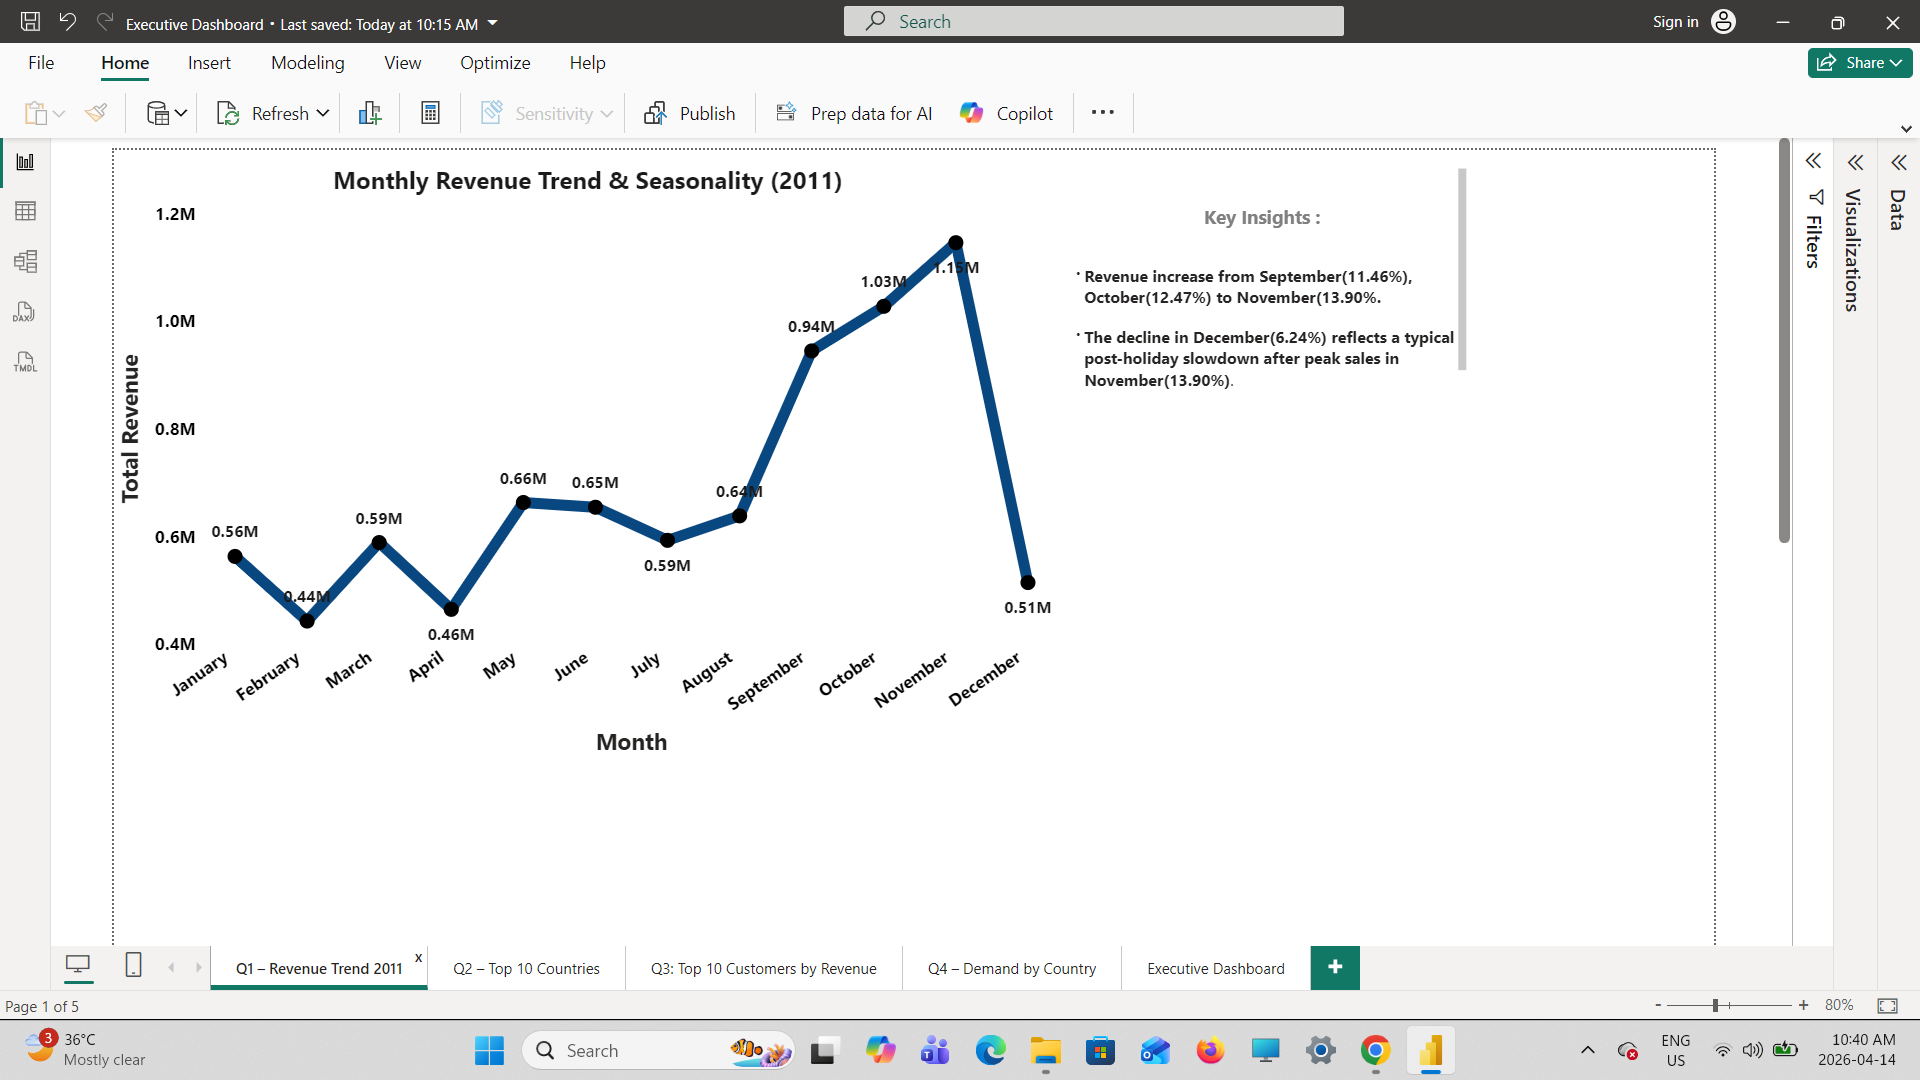

The dashboard page shown, as its layout file describes it:
{"tool":"powerbi","page":{"name":"Q1 – Revenue Trend 2011","canvas":[1600,1600],"ordinal":0},"visuals":[{"type":"lineChart","title":"Monthly Revenue Trend & Seasonality (2011)","fields":{"Category":["Online Retail.InvoiceDate.Variation.Date Hierarchy.Year","Online Retail.InvoiceDate.Variation.Date Hierarchy.Quarter","Online Retail.InvoiceDate.Variation.Date Hierarchy.Month","Online Retail.InvoiceDate.Variation.Date Hierarchy.Day"],"Y":["Online Retail.Total Revenue"]},"box":[0,14,948,597],"z":0},{"type":"textbox","box":[948,14,410,237],"z":1000}]}

Visuals, with their boxes on the page's 1600x1600 design canvas (x1, y1, x2, y2). These are canvas units, not pixel positions in the 1920x1080 screenshot, which may show the page scaled, cropped or inside an application window:
"Monthly Revenue Trend & Seasonality (2011)" lineChart: x1=0, y1=14, x2=948, y2=611
textbox: x1=948, y1=14, x2=1358, y2=251
